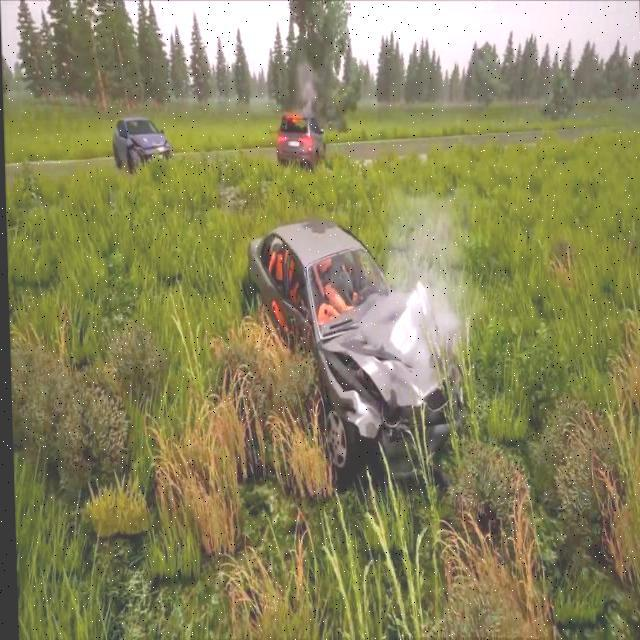single accident: (186, 217, 505, 516)
